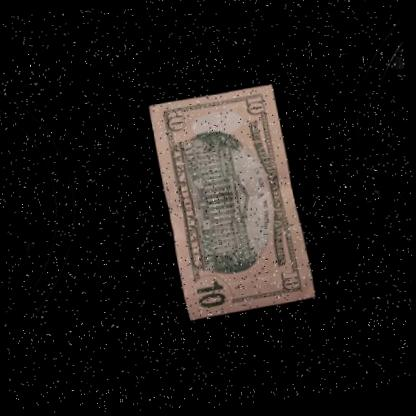ten-back: (142, 83, 314, 327)
